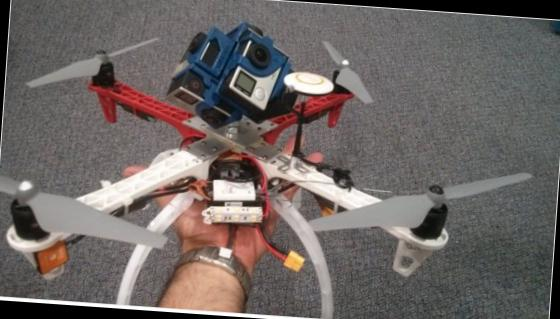drone: (0, 20, 550, 319)
